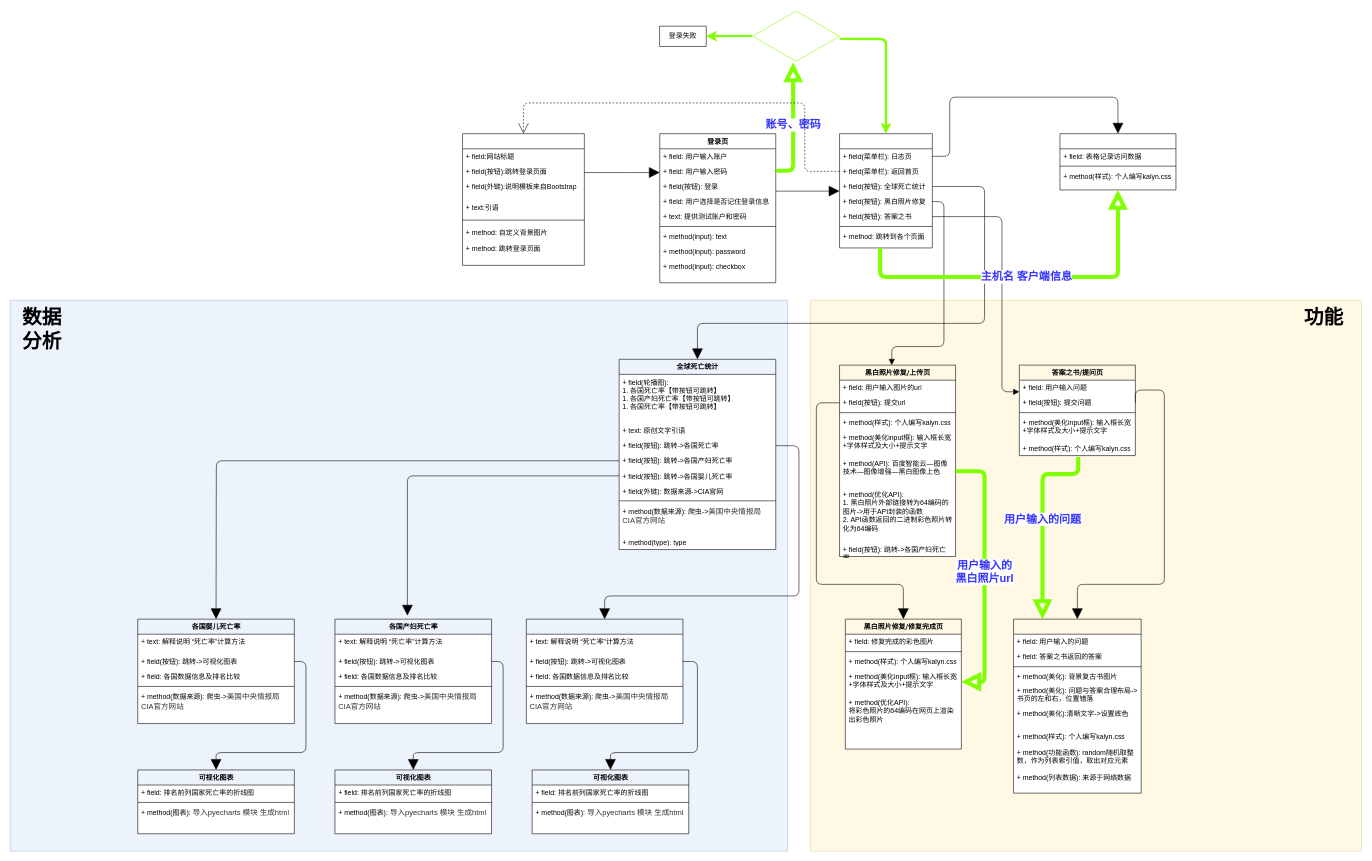
Image size: 1372x861. Some labels were removed from this diagram. Each missing label, with the box of its shape:
各国死亡率: (526, 619, 683, 724)
开始页: (839, 133, 932, 248)
日志页: (1059, 133, 1176, 190)
是否在数据库中有对应值: (752, 10, 840, 62)
答案之书/回答页: (1013, 619, 1141, 793)
首页: (462, 133, 584, 265)
